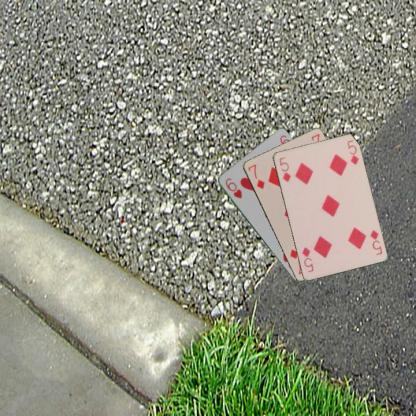5d: (276, 154, 292, 184), (368, 227, 383, 256)
6h: (223, 176, 244, 200)
7d: (245, 161, 266, 190)
